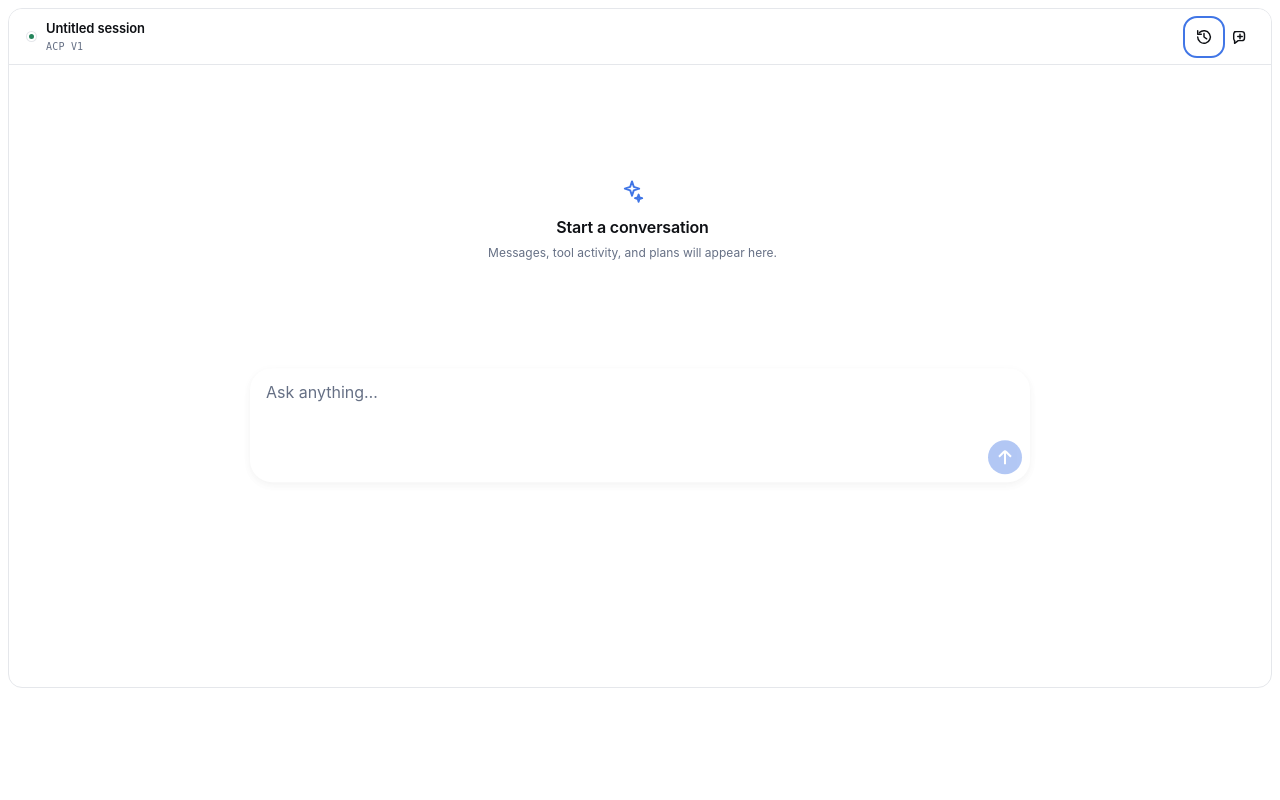
it: Chat composition › traps focus in the modal session drawer and restores its opener
Click the 1st button named "Sessions" at (1204, 36), box [1187,20,1221,54]
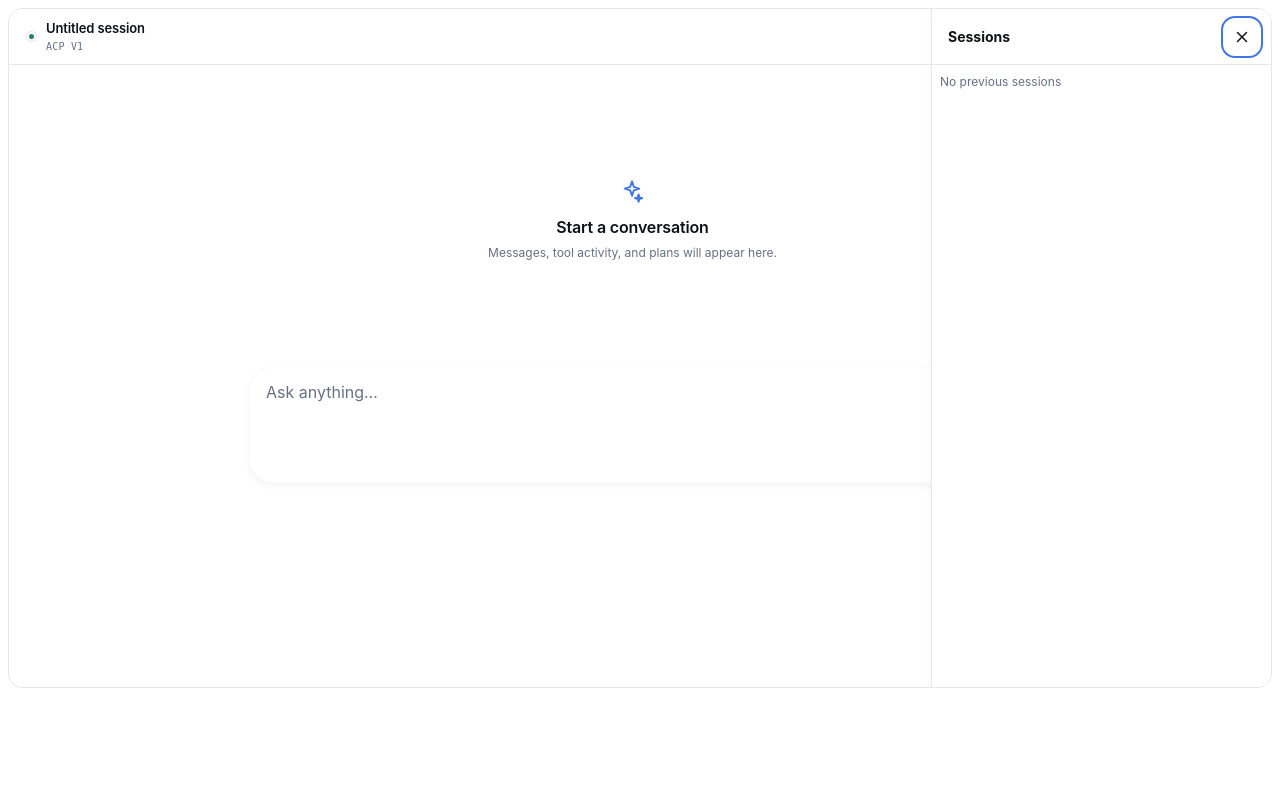
Press Tab in the button named "Close", box [1225,20,1259,54]
Press Tab in the button named "Close", box [1225,20,1259,54]
Press Escape
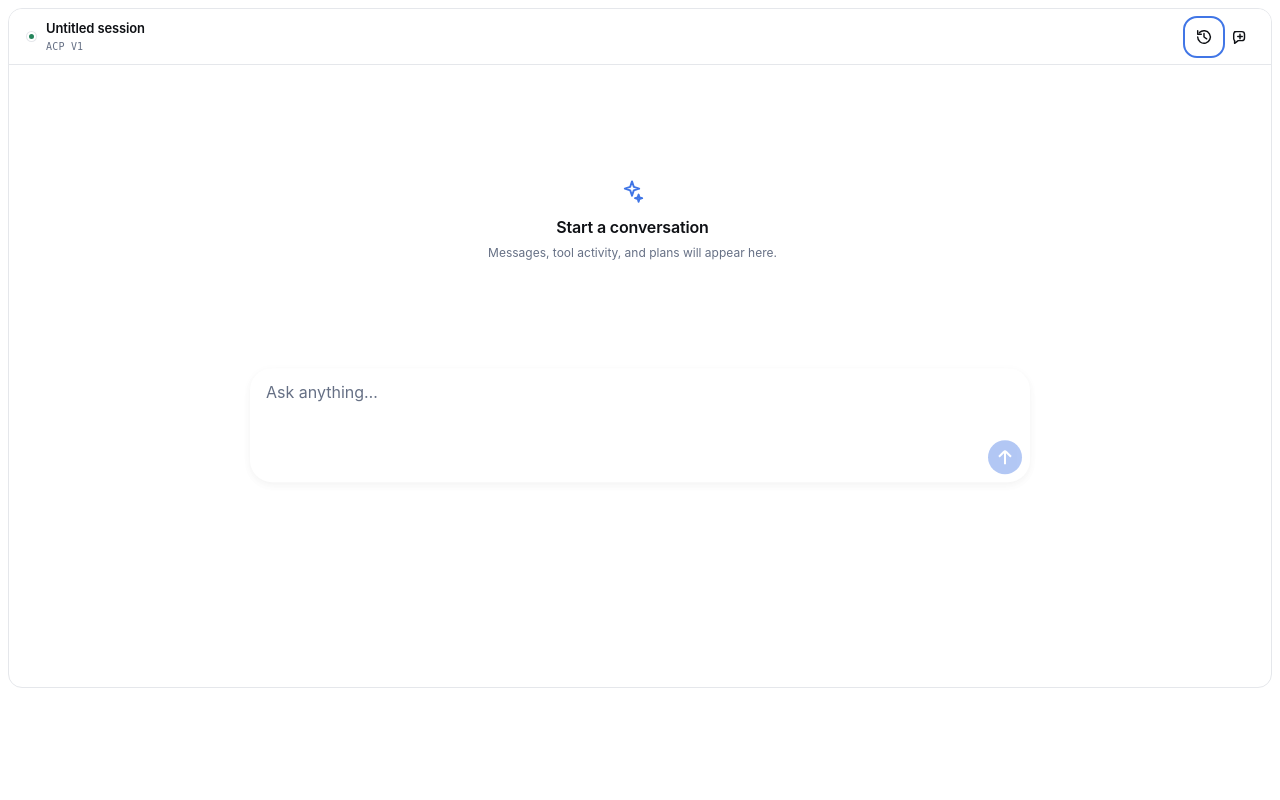
Expected: the dialog is gone
